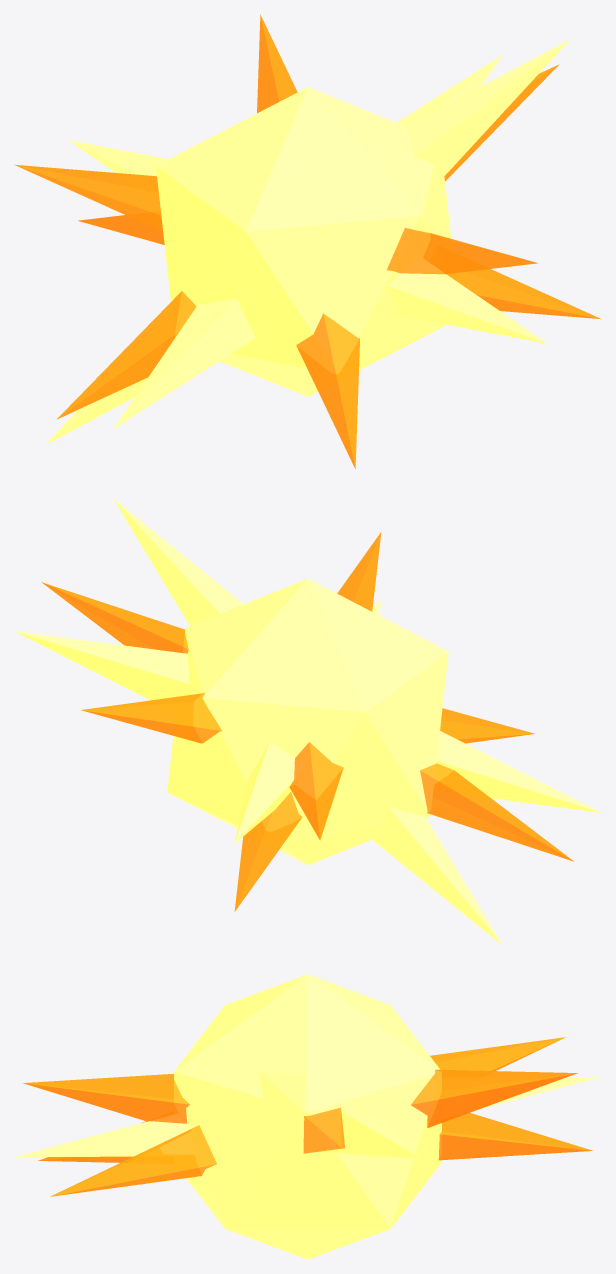
The model's file is fx_hit_x.glb.
3 views of the same model, one above another, from view 1: azimuth 30°, elevation 25°; view 2: azimuth 150°, elevation 25°; view 3: azimuth 270°, elevation 25° (orthographic). The views are drawn at different scales.
Parts seen in each view (by area): view 1: fx_hit_x; view 2: fx_hit_x; view 3: fx_hit_x.
Boxes of the visible parts, x1,y1,x2,y2 form: fx_hit_x: (14,14,601,469); fx_hit_x: (14,499,601,944); fx_hit_x: (14,974,601,1259).
Size of the model in its own units: 0.6569 by 0.3826 by 0.6723.
